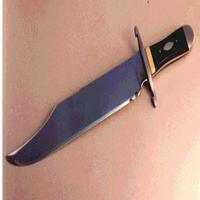knife: (4, 24, 196, 168)
